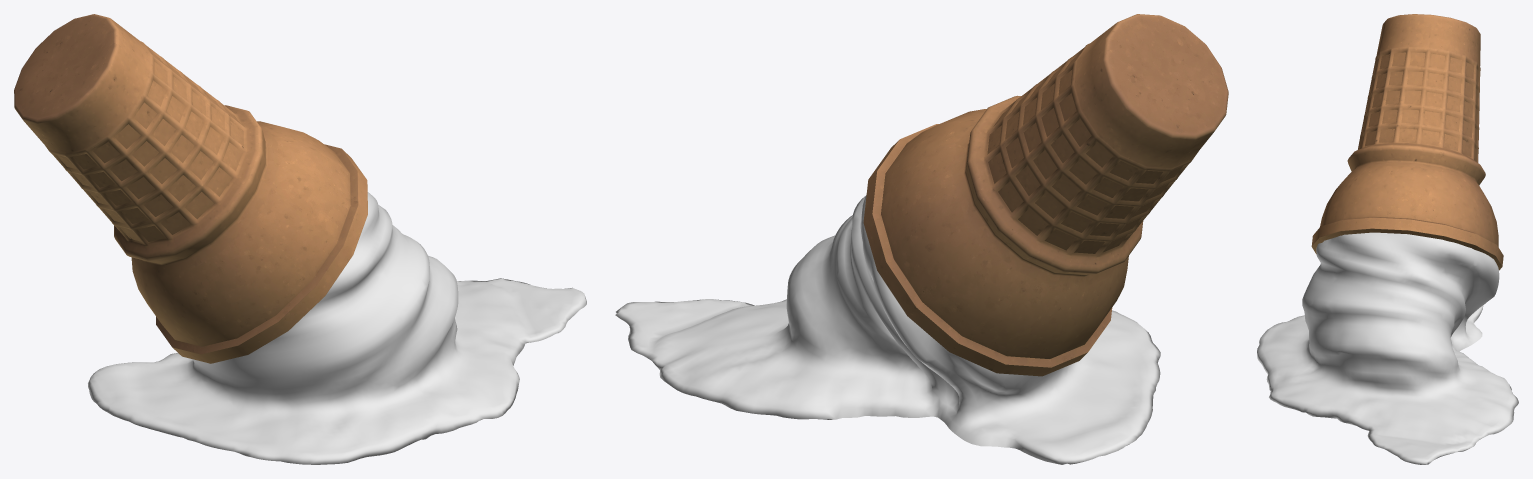
File: icecream.fbx
The picture shows the model from 3 angles, left to right: view 1: azimuth 30°, elevation 25°; view 2: azimuth 150°, elevation 25°; view 3: azimuth 270°, elevation 25°; orthographic projection. The views are drawn at different scales.
Visible parts, largest first — view 1: cone, icecream; view 2: cone, icecream; view 3: icecream, cone.
Boxes of the visible parts, box(x1,y1,x2,y2) form: cone: box(14, 14, 367, 363); icecream: box(88, 192, 586, 464); cone: box(863, 14, 1228, 376); icecream: box(615, 195, 1160, 464); icecream: box(1257, 232, 1518, 464); cone: box(1311, 14, 1503, 270).
Size of the model in its own units: 732 by 490 by 409.
